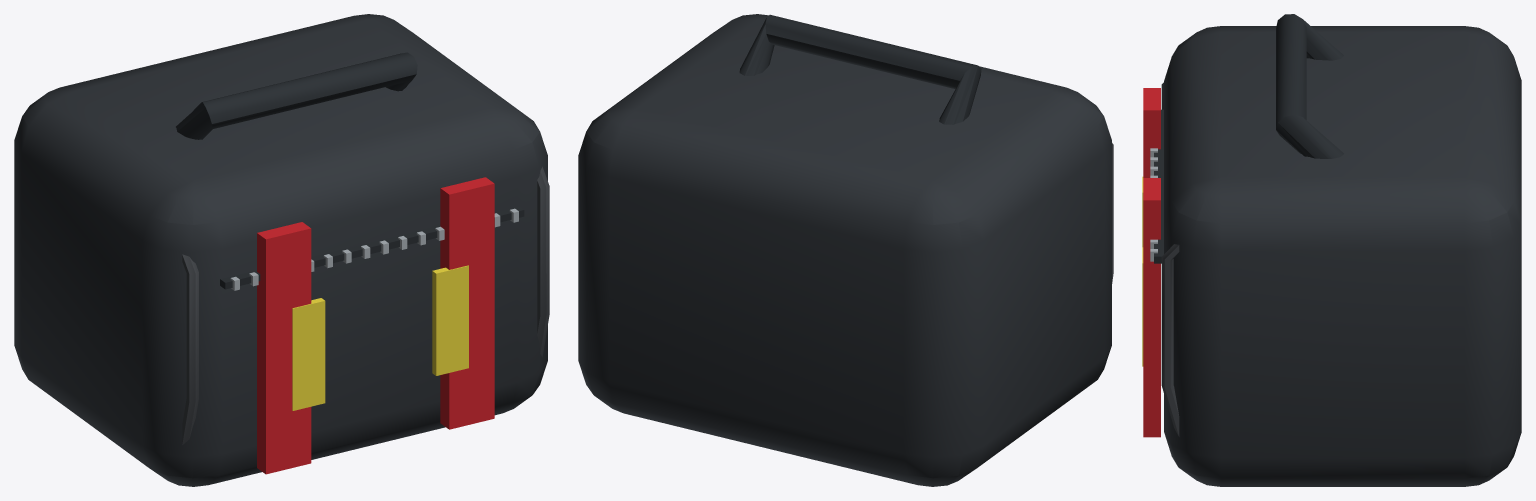
Rendered from ob_cabin_door_bag_2.glb.
3 views of the same model, side by side, from view 1: azimuth 30°, elevation 25°; view 2: azimuth 150°, elevation 25°; view 3: azimuth 270°, elevation 25° (orthographic).
Visible parts, largest first — view 1: ob_cabin_door_bag_2; view 2: ob_cabin_door_bag_2; view 3: ob_cabin_door_bag_2.
Boxes of the visible parts, x1,y1,x2,y2 form: ob_cabin_door_bag_2: (14, 14, 549, 486); ob_cabin_door_bag_2: (578, 14, 1113, 486); ob_cabin_door_bag_2: (1142, 14, 1521, 486).
Bounding box in the file's own units: 0.22 × 0.18 × 0.18.
